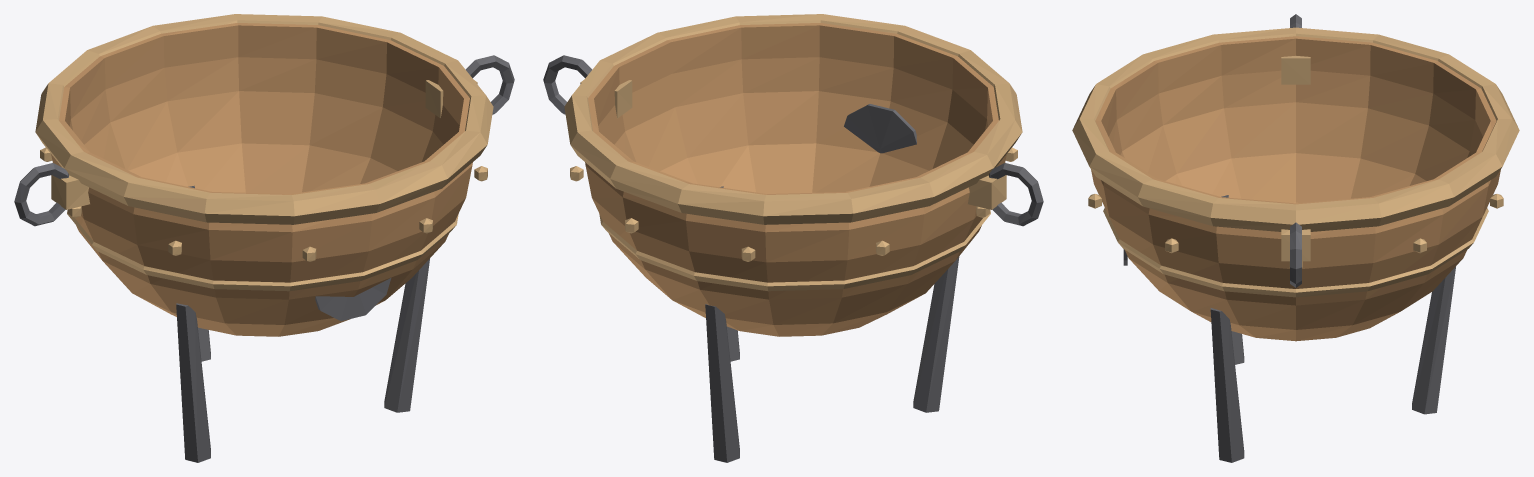
Rendered from cauldron.glb.
The picture shows the model from 3 angles, left to right: view 1: azimuth 30°, elevation 25°; view 2: azimuth 150°, elevation 25°; view 3: azimuth 270°, elevation 25°; orthographic projection. The views are drawn at different scales.
Visible parts, largest first — view 1: cauldron; view 2: cauldron; view 3: cauldron.
Boxes of the visible parts, <box> form: cauldron: <box>14,14,514,462</box>; cauldron: <box>543,14,1043,462</box>; cauldron: <box>1072,14,1519,462</box>.
Bounding box in the file's own units: 2.7 × 1.55 × 2.16.
